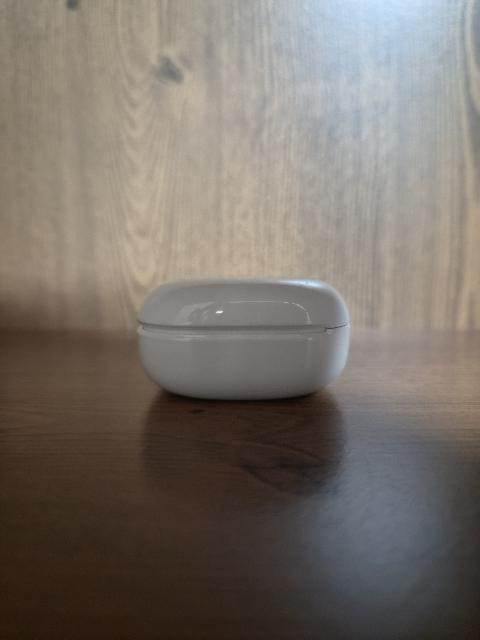earphone_case: (137, 278, 349, 399)
